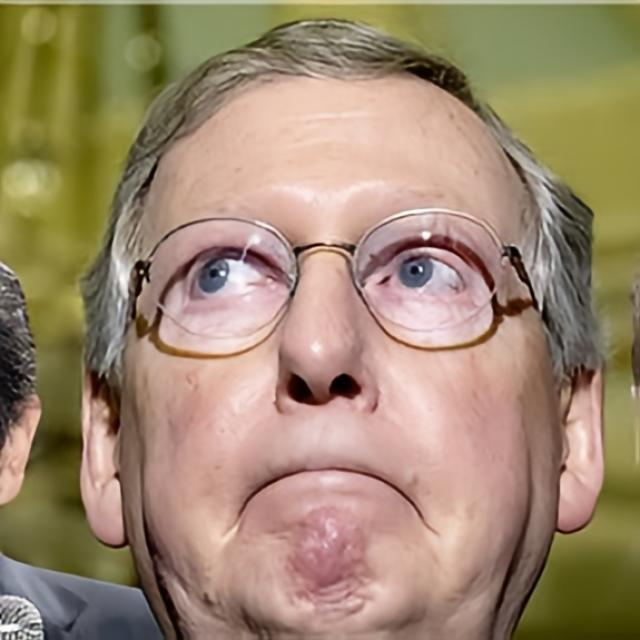fear: (119, 78, 560, 640)
